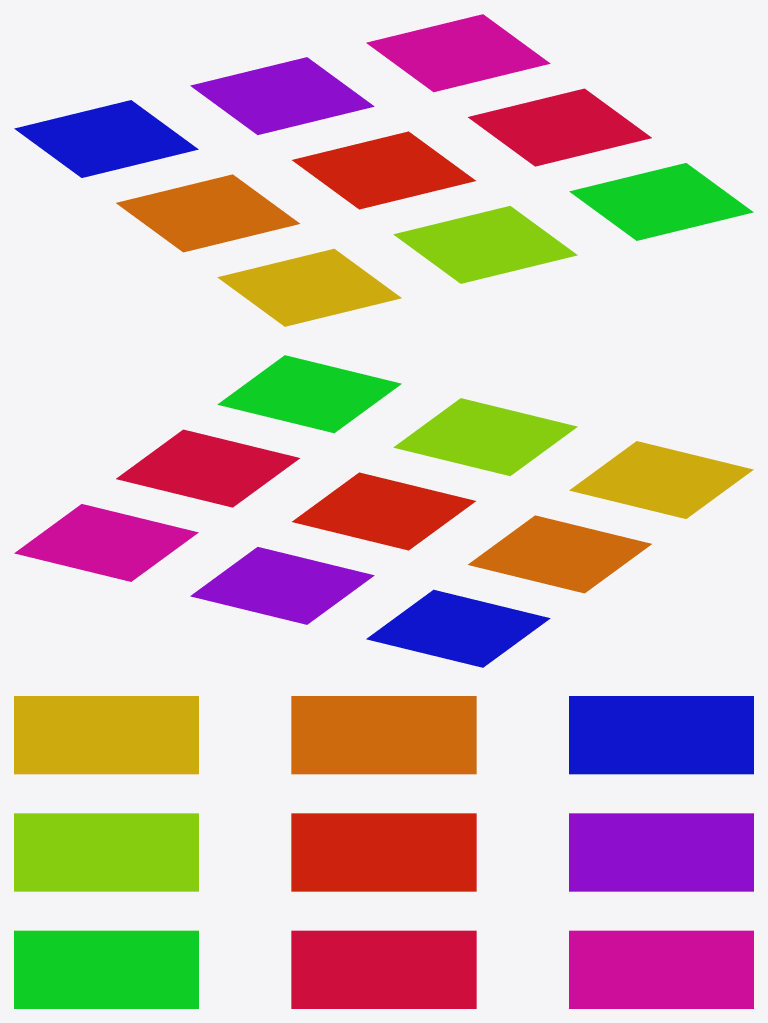
3 renders of one model, top to bottom at view 1: azimuth 30°, elevation 25°; view 2: azimuth 150°, elevation 25°; view 3: azimuth 270°, elevation 25°, orthographic. The views are drawn at different scales.
Parts seen in each view (by area): view 1: middle-middle, lower-left, upper-right, upper-middle, lower-middle, middle-left, middle-right, upper-left, lower-right; view 2: middle-middle, upper-left, lower-right, upper-middle, lower-middle, middle-left, middle-right, lower-left, upper-right; view 3: middle-middle, middle-left, middle-right, upper-middle, lower-middle, upper-left, lower-left, upper-right, lower-right.
Part boxes in pixels (x1,y1,x2,y2): middle-middle: (292,131,475,209); lower-left: (217,248,401,326); upper-right: (366,14,550,92); upper-middle: (190,57,374,134); lower-middle: (393,206,577,283); middle-left: (116,174,299,252); middle-right: (468,88,651,166); upper-left: (14,100,198,177); lower-right: (569,163,753,240); middle-middle: (292,472,475,550); upper-left: (366,589,550,667); lower-right: (217,355,401,433); upper-middle: (190,547,374,624); lower-middle: (393,398,577,475); middle-left: (468,515,651,593); middle-right: (116,429,299,507); lower-left: (569,441,753,518); upper-right: (14,504,198,581); middle-middle: (291,813,476,891); middle-left: (291,696,476,774); middle-right: (291,930,476,1008); upper-middle: (569,813,753,891); lower-middle: (14,813,198,891); upper-left: (569,696,753,774); lower-left: (14,696,198,774); upper-right: (569,930,753,1008); lower-right: (14,930,198,1008).
Size of the model in its own units: 800 by 3.85e-05 by 800.
